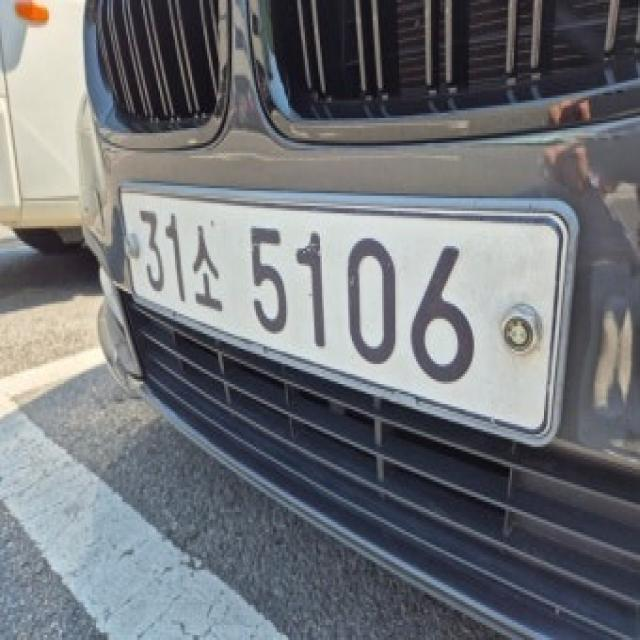car: (106, 157, 595, 478)
